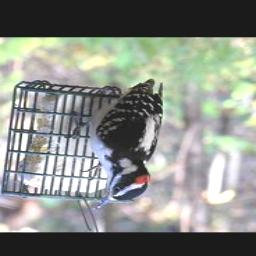Woodpecker: (67, 78, 164, 211)
